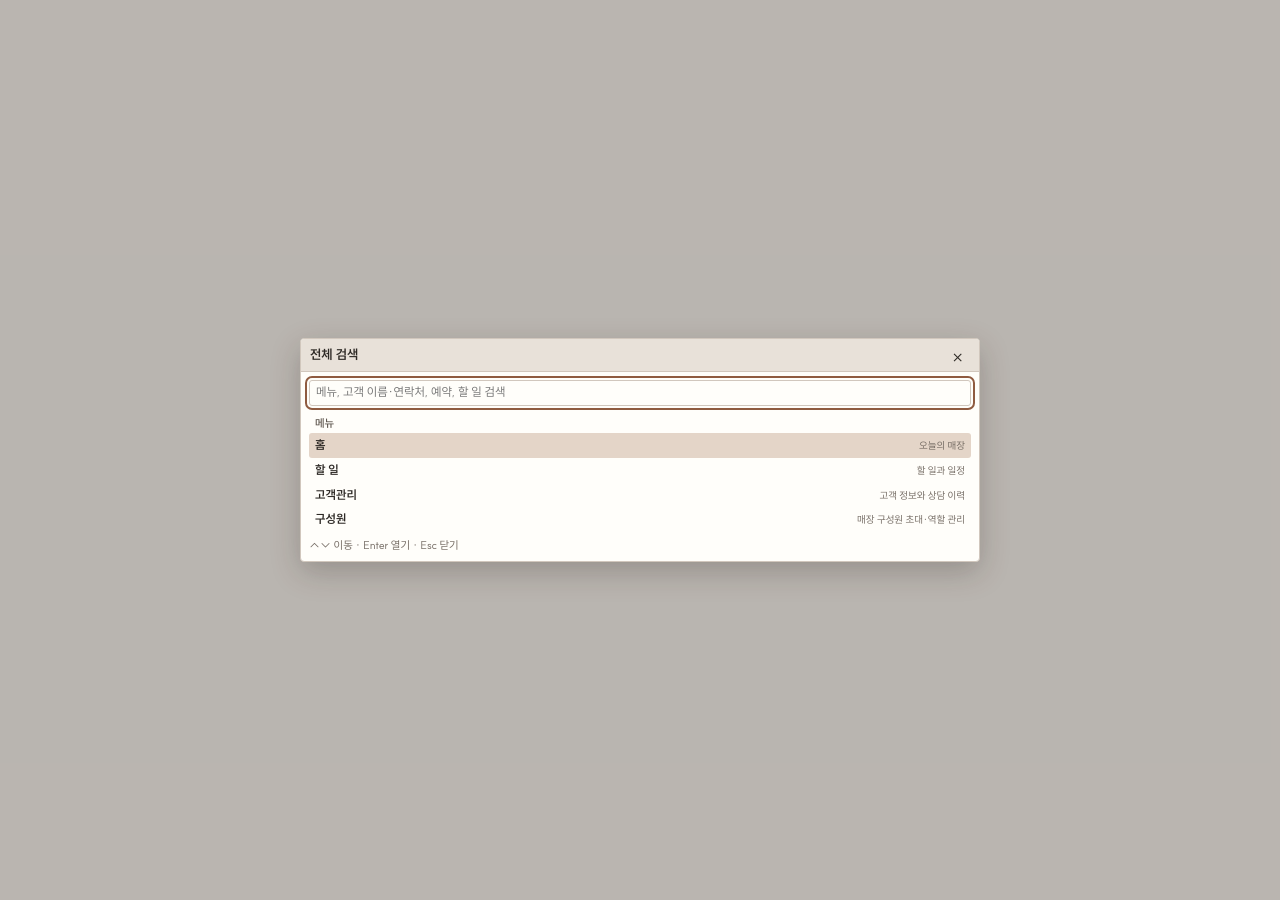
it: SearchPalette › 전화번호 가림 옵션이 켜져 있으면 결과의 연락처를 가려서 보여 준다
The width and height of the screenshot is (1280, 900).
Type "김하나" into the dropdown named "검색어". click: (640, 392)
box: x1=309 y1=380 x2=971 y2=406
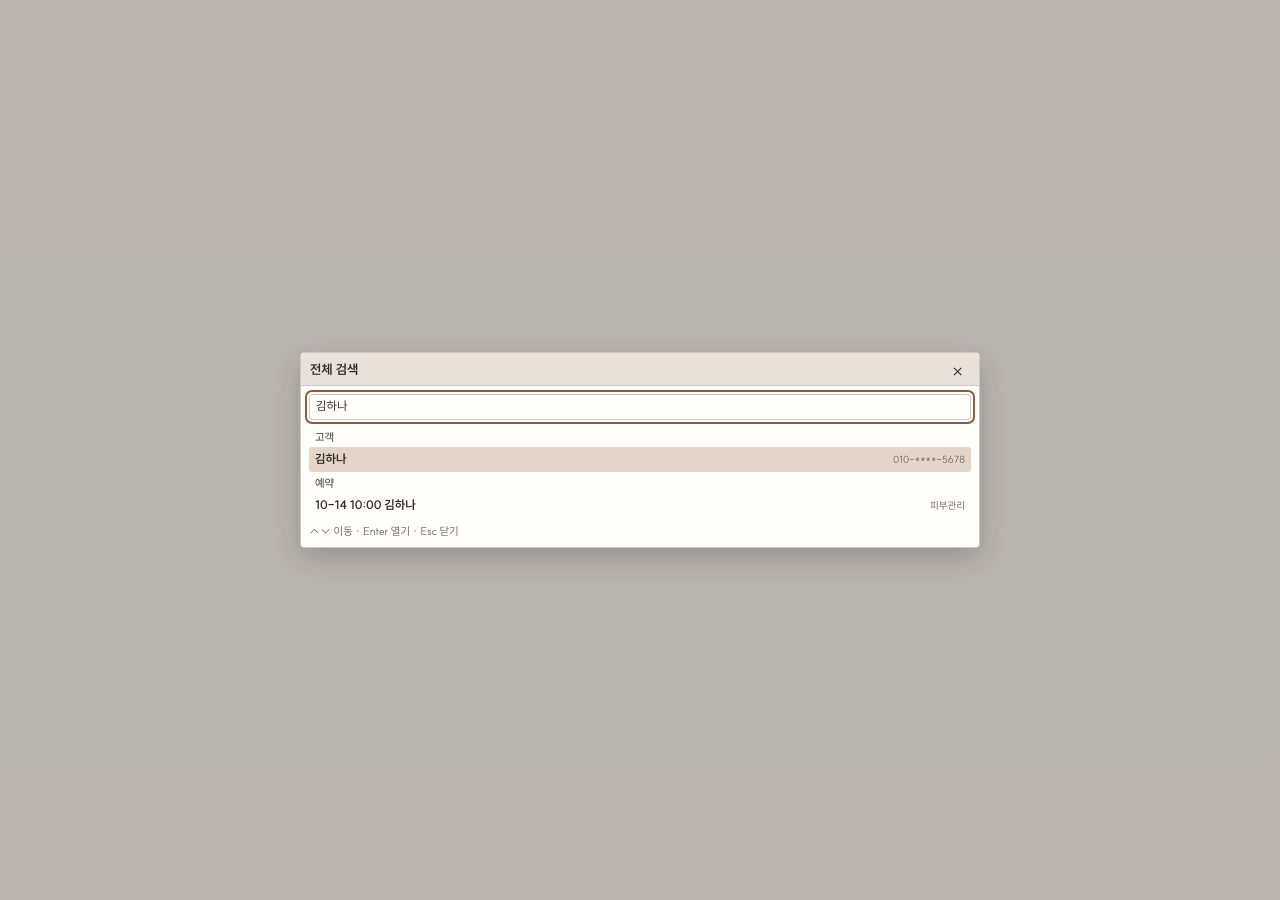
Check: the option "김하나 010-****-5678" is shown, box x1=309 y1=447 x2=971 y2=472
